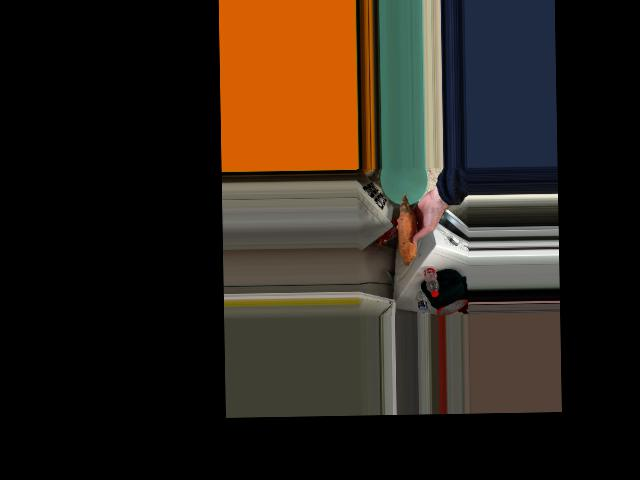sweet_potato: (398, 202, 416, 263)
